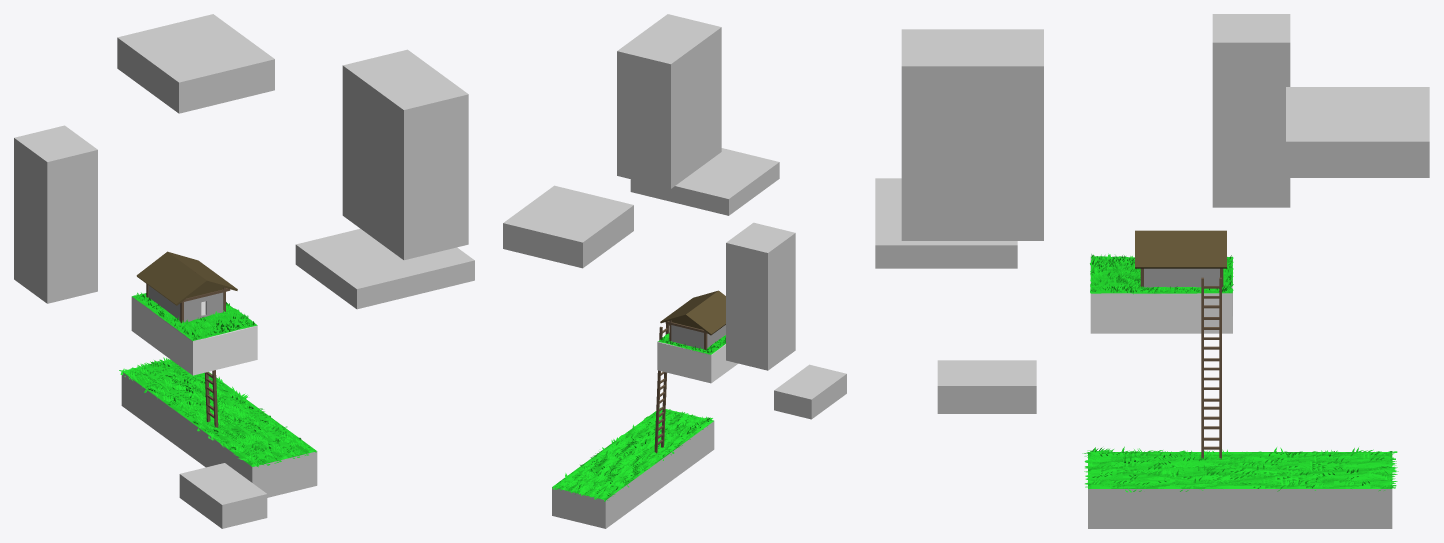
File: world.gltf
3 renders of one model, left to right at view 1: azimuth 30°, elevation 25°; view 2: azimuth 150°, elevation 25°; view 3: azimuth 270°, elevation 25°, orthographic. The views are drawn at different scales.
Visible parts, largest first — view 1: Cube.004, Cube.001, Cube.002, Cube.006, Cube.005, Cube, Cube.003, Cube.018, Cube.011, Cube.019, Ladder; view 2: Cube.004, Cube.001, Cube.002, Cube.006, Cube.005, Cube.003, Cube, Cube.018, Ladder, Cube.010, Cube.019; view 3: Cube.004, Cube.002, Cube.001, Cube.006, Cube, Cube.005, Cube.003, Cube.019, Ladder, Cube.009.
Part boxes in pixels (x1,y1,x2,y2): Cube.004: [342, 49, 468, 260]; Cube.001: [14, 125, 97, 303]; Cube.002: [121, 359, 317, 497]; Cube.006: [117, 14, 274, 113]; Cube.005: [295, 228, 474, 309]; Cube: [131, 293, 257, 375]; Cube.003: [179, 463, 267, 528]; Cube.018: [136, 251, 206, 305]; Cube.011: [184, 292, 223, 322]; Cube.019: [168, 252, 237, 290]; Ladder: [205, 370, 218, 427]; Cube.004: [617, 14, 721, 188]; Cube.001: [726, 222, 795, 370]; Cube.002: [552, 407, 714, 528]; Cube.006: [503, 185, 633, 268]; Cube.005: [630, 148, 779, 215]; Cube.003: [774, 364, 846, 419]; Cube: [657, 333, 738, 383]; Cube.018: [685, 290, 725, 335]; Ladder: [654, 323, 669, 453]; Cube.010: [671, 325, 703, 349]; Cube.019: [660, 291, 717, 323]; Cube.004: [901, 29, 1043, 240]; Cube.002: [1088, 451, 1392, 528]; Cube.001: [1212, 14, 1290, 207]; Cube.006: [1286, 87, 1429, 177]; Cube: [1090, 256, 1233, 333]; Cube.005: [875, 178, 1017, 268]; Cube.003: [937, 360, 1036, 413]; Cube.019: [1135, 230, 1226, 268]; Ladder: [1201, 277, 1221, 459]; Cube.009: [1144, 268, 1219, 287].
Size of the model in its own units: 15.95 by 22.92 by 22.88.
